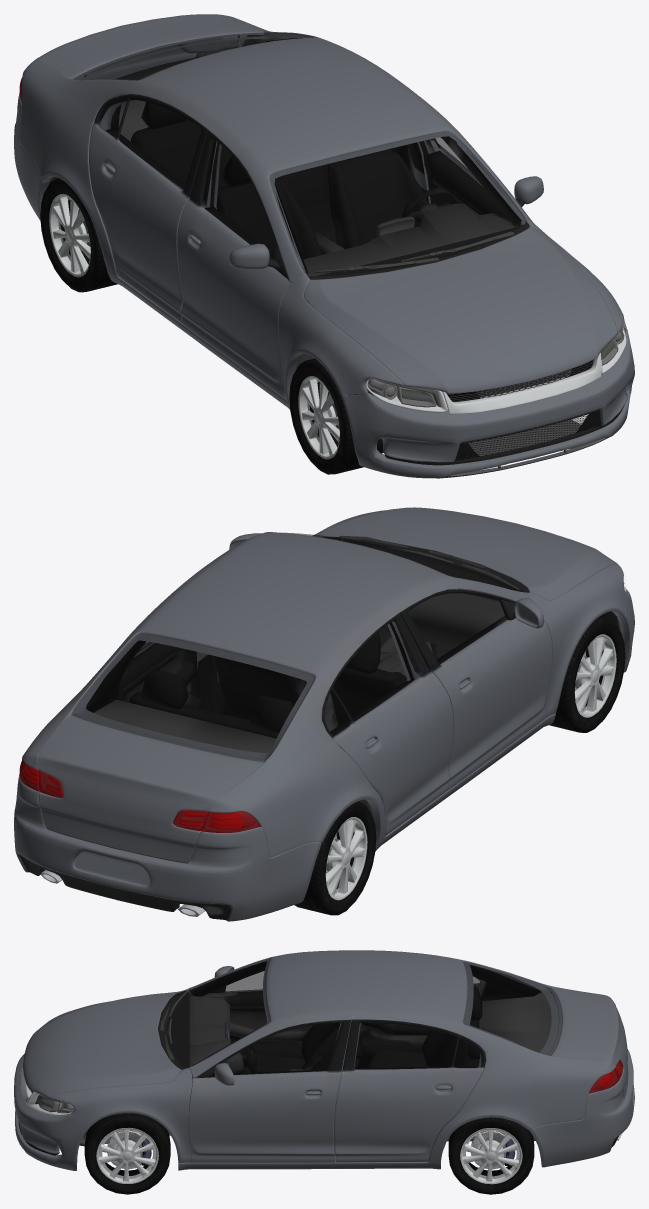
The model's file is sedan_opt.glb.
3 views of the same model, one above another, from view 1: azimuth 30°, elevation 25°; view 2: azimuth 150°, elevation 25°; view 3: azimuth 270°, elevation 25° (orthographic). The views are drawn at different scales.
Visible parts, largest first — view 1: sedan-unibody_65, hood_60, windshield_102, bumper-front_8, door-front-r_17, door-rear-r_23, trunk_99, front-seat-backrest_39, fender-front-r_33, dashboard_13, rear-seat-backseat_63, door-rear-window-glass-r_27 (+23 smaller); view 2: sedan-unibody_65, trunk_99, glass-rear_42, bumper-rear_10, door-front-r_17, door-rear-r_23, hood_60, fender-front-r_33, door-rear-window-glass-r_27, door-front-window-glass-r_19, rear-seat-backseat_63, dashboard_13 (+17 smaller); view 3: sedan-unibody_65, door-front-l_16, door-rear-l_22, hood_60, windshield_102, glass-rear_42, fender-front-l_32, bumper-rear_10, trunk_99, door-rear-window-glass-l_26, door-front-window-glass-l_18, bumper-front_8 (+22 smaller).
Part boxes in pixels (box(x1,y1,x2,y2)): sedan-unibody_65: box(19, 14, 533, 409); hood_60: box(304, 226, 617, 393); windshield_102: box(270, 131, 526, 275); bumper-front_8: box(342, 328, 634, 478); door-front-r_17: box(177, 130, 291, 396); door-rear-r_23: box(89, 94, 208, 323); trunk_99: box(38, 14, 264, 79); front-seat-backrest_39: box(327, 149, 428, 249); fender-front-r_33: box(278, 272, 404, 403); dashboard_13: box(303, 203, 520, 276); rear-seat-backseat_63: box(131, 102, 329, 205); door-rear-window-glass-r_27: box(119, 98, 201, 190); sedan-unibody_65: box(20, 532, 555, 857); trunk_99: box(37, 713, 264, 863); glass-rear_42: box(71, 633, 314, 761); bumper-rear_10: box(14, 774, 321, 921); door-front-r_17: box(400, 589, 552, 790); door-rear-r_23: box(322, 613, 453, 835); hood_60: box(313, 507, 617, 600); fender-front-r_33: box(527, 564, 627, 717); door-rear-window-glass-r_27: box(334, 620, 420, 721); door-front-window-glass-r_19: box(408, 593, 506, 663); rear-seat-backseat_63: box(129, 669, 293, 738); dashboard_13: box(378, 593, 504, 659); sedan-unibody_65: box(178, 950, 620, 1170); door-front-l_16: box(188, 1019, 350, 1162); door-rear-l_22: box(334, 1019, 485, 1162); hood_60: box(22, 991, 180, 1098); windshield_102: box(166, 959, 270, 1067); glass-rear_42: box(463, 961, 562, 1055); fender-front-l_32: box(49, 1067, 192, 1163); bumper-rear_10: box(529, 1049, 634, 1167); trunk_99: box(547, 987, 628, 1098); door-rear-window-glass-l_26: box(354, 1022, 456, 1069); door-front-window-glass-l_18: box(227, 1023, 341, 1074); bumper-front_8: box(14, 1054, 89, 1170).
Bounding box in the file's own units: 2.1 × 1.5 × 4.98.
Materials: 13 (10 with a texture image).
